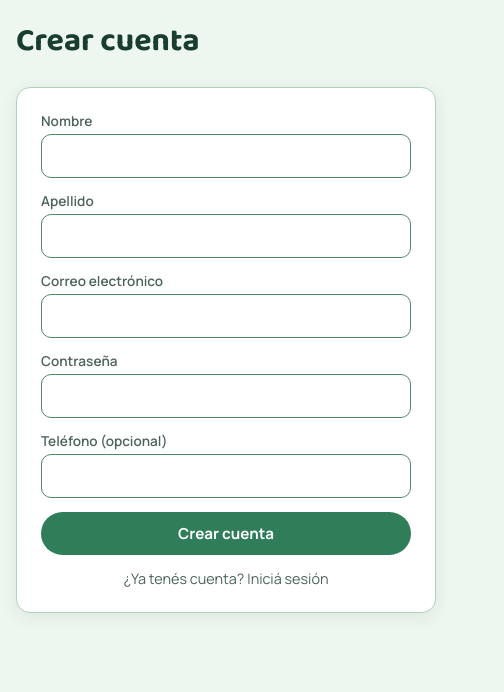
Registro — paso de dirección después de crear la cuenta › tras crear la cuenta, muestra el formulario de dirección (opcional) en vez de navegar directo
This screenshot has width=504, height=692.
Type "Ana" into the field labelled "Nombre" at (226, 156), box [41,134,411,178]
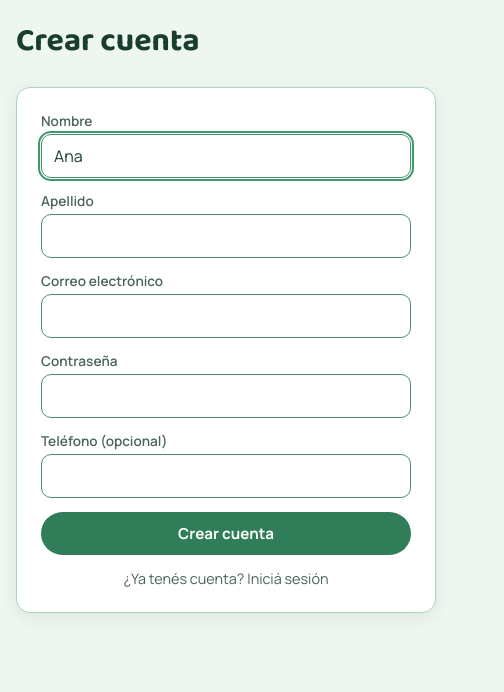
Type "Gómez" into the field labelled "Apellido" at (226, 236), box [41,214,411,258]
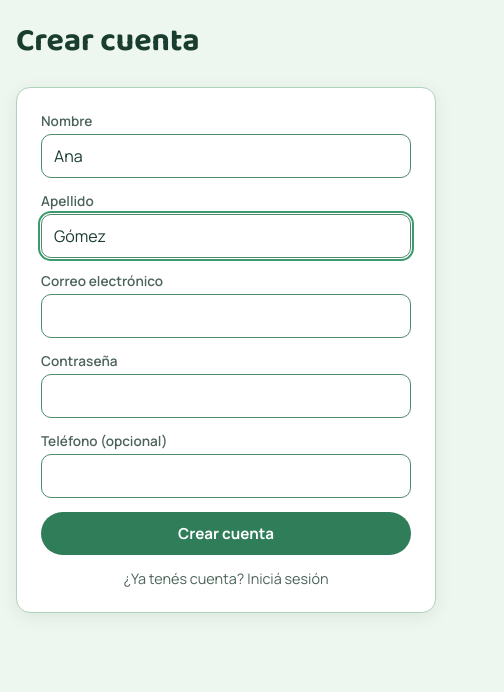
Type "ana@petshop.demo" into the field labelled "Correo electrónico" at (226, 316), box [41,294,411,338]
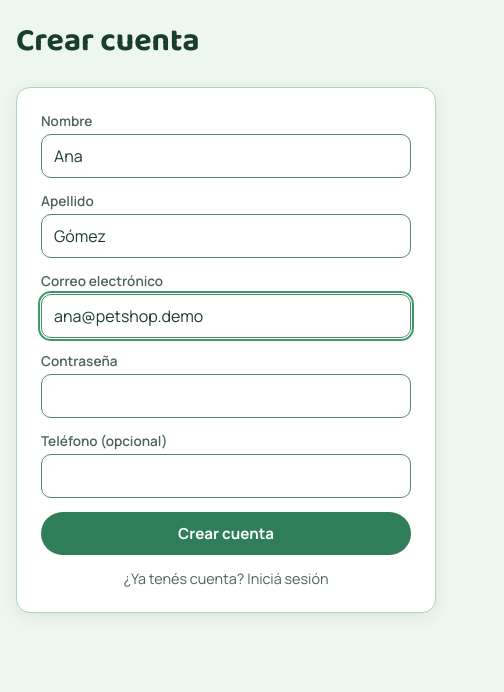
Type "ClaveSegura123" into the password field labelled "Contraseña" at (226, 396), box [41,374,411,418]
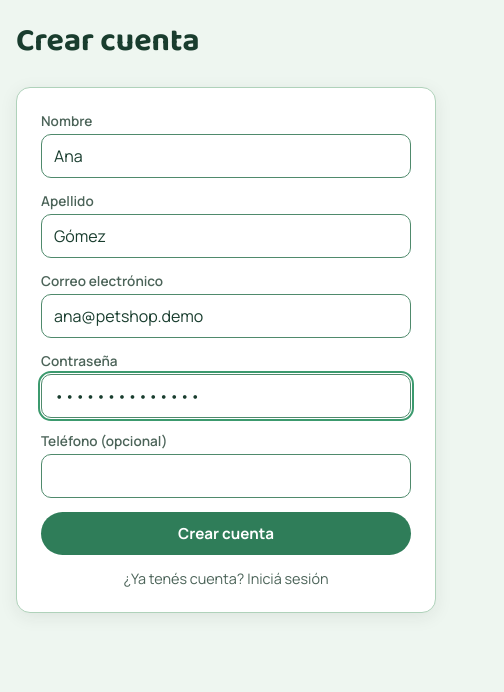
Click the button "Crear cuenta" at (226, 534), box [41,512,411,555]
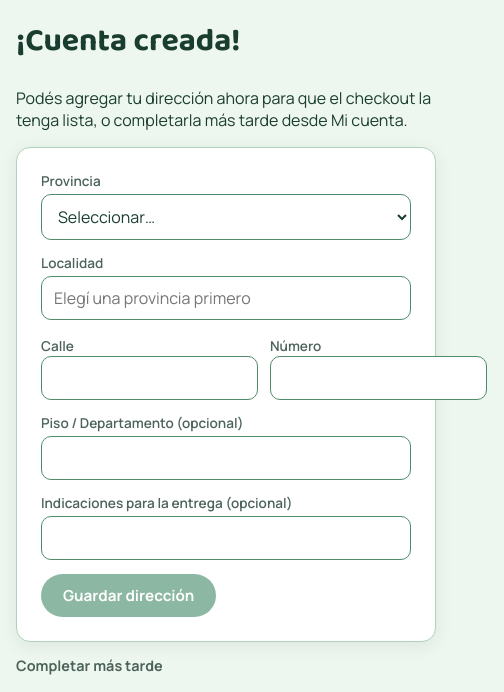
Expected: the heading "¡Cuenta creada!" is shown, [16,16,240,67]
Expected: the button "Guardar dirección" is shown, [41,574,216,617]
Expected: the button "Completar más tarde" is shown, [16,656,163,675]
